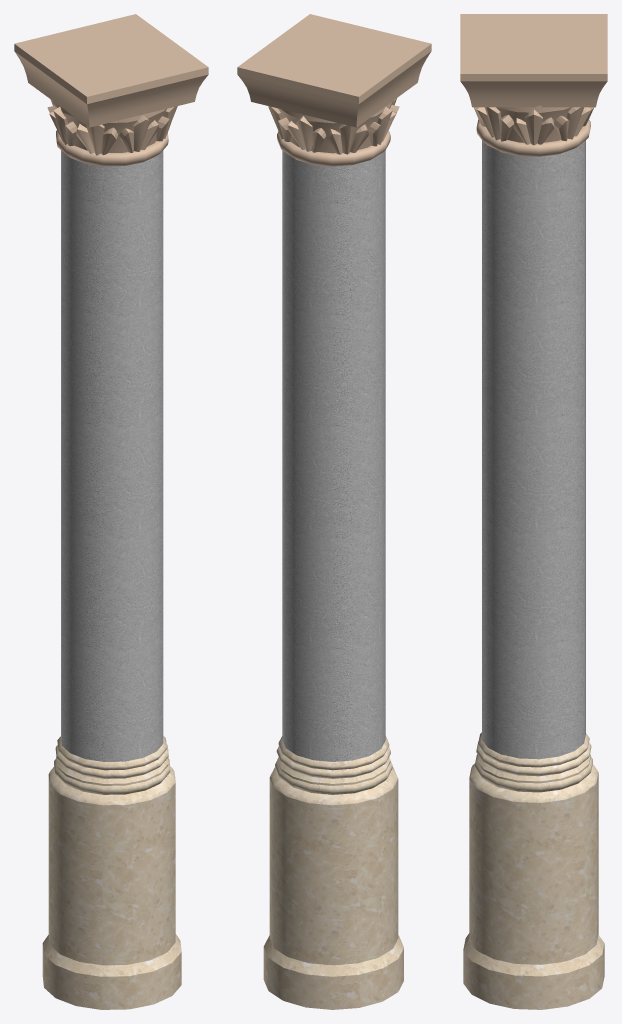
Rendered from BC_InsidePillar_A.fbx.
3 renders of one model, left to right at view 1: azimuth 30°, elevation 25°; view 2: azimuth 150°, elevation 25°; view 3: azimuth 270°, elevation 25°, orthographic.
Parts seen in each view (by area): view 1: BC_InsidePillar_A; view 2: BC_InsidePillar_A; view 3: BC_InsidePillar_A.
Boxes of the visible parts, x1,y1,x2,y2 form: BC_InsidePillar_A: (14,14,208,1009); BC_InsidePillar_A: (237,14,431,1009); BC_InsidePillar_A: (460,14,607,1009).
Bounding box in the file's own units: 115 × 830 × 118.
Materials: 3 (2 with a texture image).
